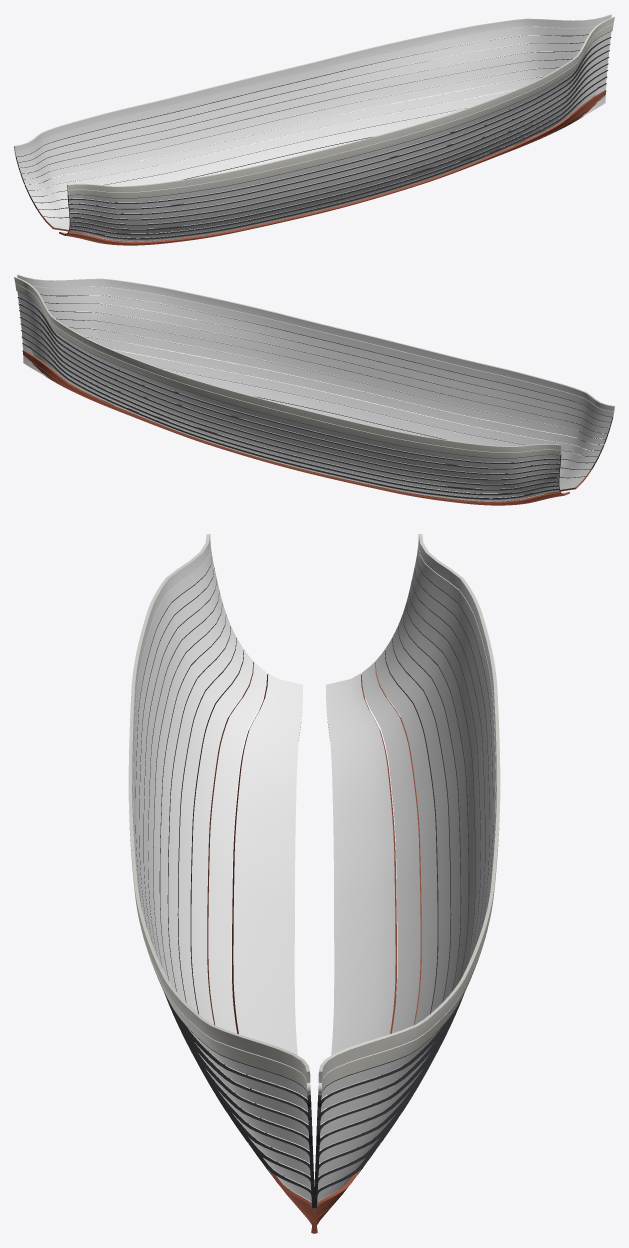
The model's file is Planking_Carvel.fbx.
3 views of the same model, one above another, from view 1: azimuth 30°, elevation 25°; view 2: azimuth 150°, elevation 25°; view 3: azimuth 270°, elevation 25° (orthographic). The views are drawn at different scales.
Visible parts, largest first — view 1: Planking_Carvel; view 2: Planking_Carvel; view 3: Planking_Carvel.
Boxes of the visible parts, box(x1,y1,x2,y2) form: Planking_Carvel: box(14, 14, 614, 245); Planking_Carvel: box(14, 274, 614, 505); Planking_Carvel: box(128, 534, 500, 1233).
Bounding box in the file's own units: 7.58 × 1.43 × 2.13.
